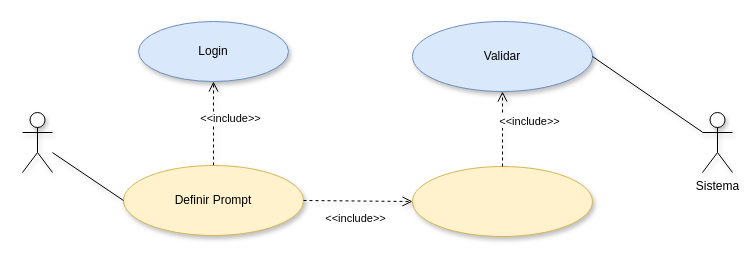
The diagram is 756 pixels wide and 261 high, and some of its shapes have lost their labels. The shapes that lost their labels are listed below. From the top down, each one's centre as x and y in pixels, then its label:
At pixel 38 144: "Usuario".
At pixel 503 203: "Prompt".
